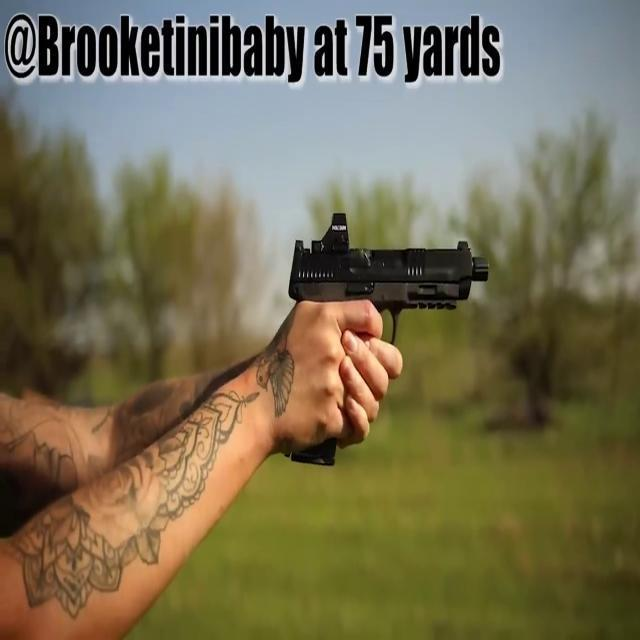Handgun: (273, 202, 497, 486)
